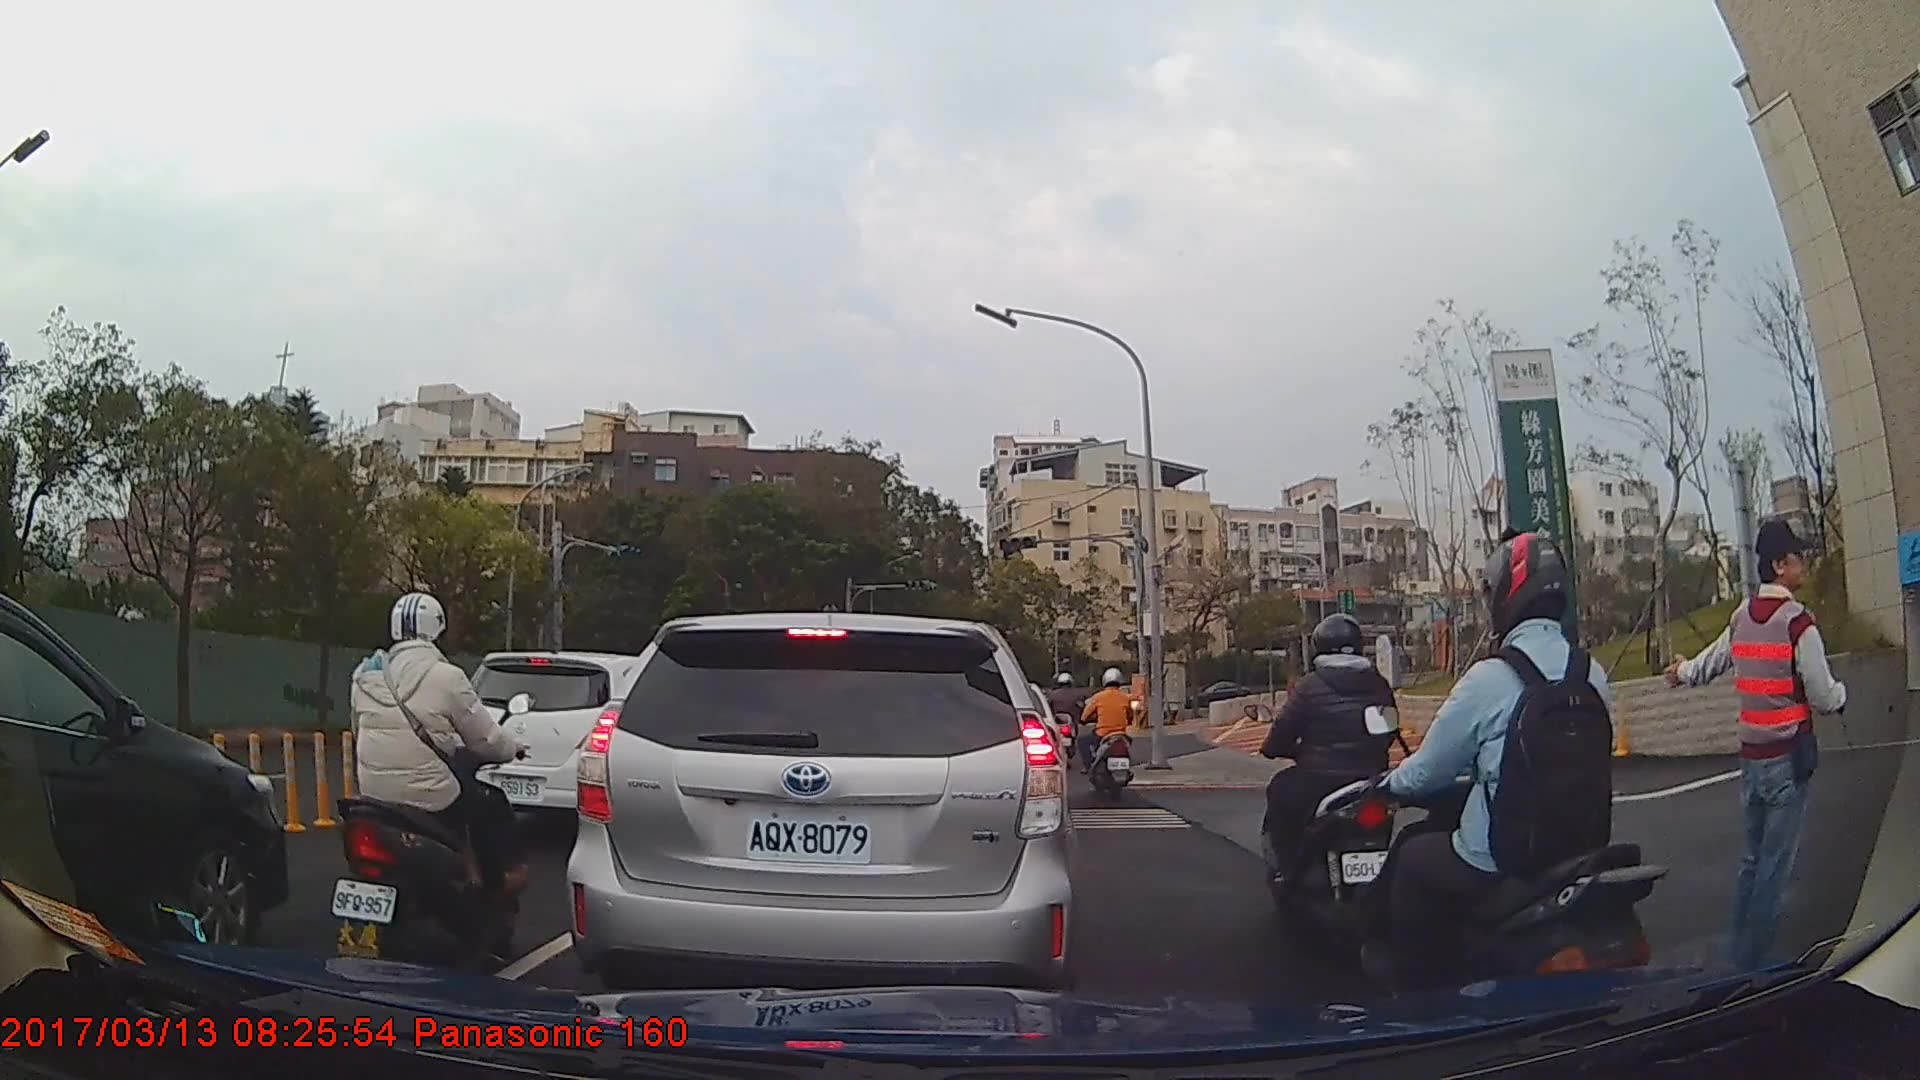pedestrian: (1666, 518, 1852, 987)
rider: (1364, 527, 1665, 1042), (327, 591, 532, 979), (1261, 611, 1406, 952), (1080, 666, 1136, 797), (1044, 671, 1083, 766)
vehicle: (563, 611, 1076, 994), (0, 589, 291, 965), (440, 649, 664, 837), (1185, 678, 1255, 716)
